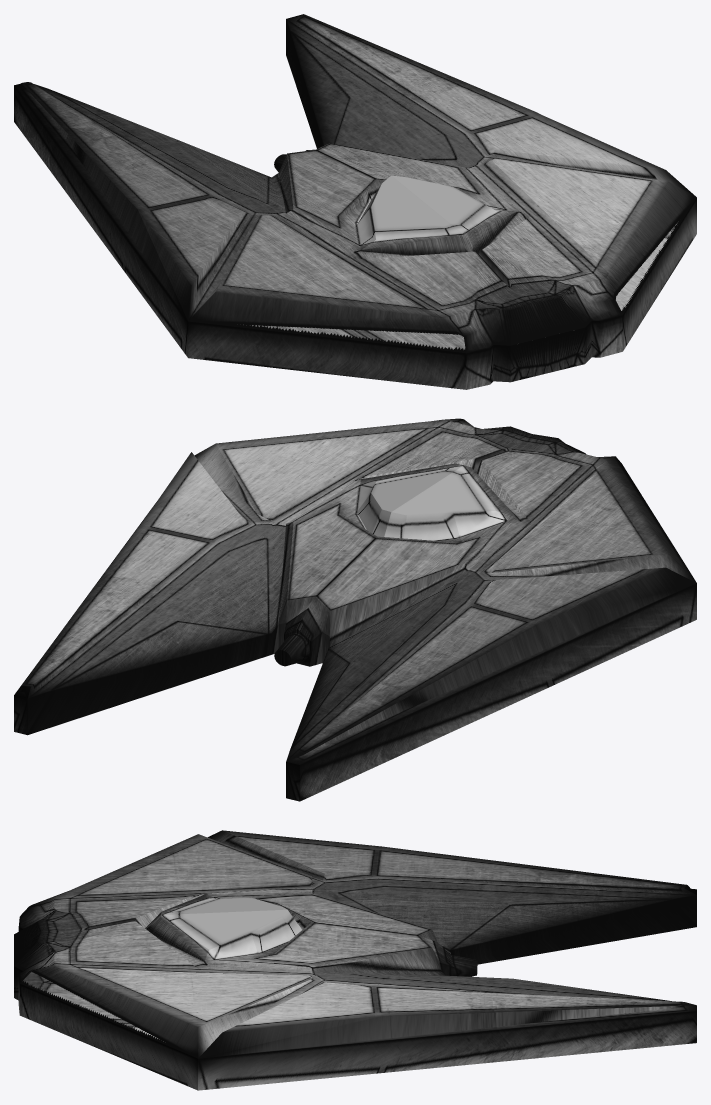
File: Enemy_Ship.fbx
3 renders of one model, top to bottom at view 1: azimuth 30°, elevation 25°; view 2: azimuth 150°, elevation 25°; view 3: azimuth 270°, elevation 25°, orthographic. The views are drawn at different scales.
Visible parts, largest first — view 1: Enemy_Ship; view 2: Enemy_Ship; view 3: Enemy_Ship.
Part boxes in pixels (x1,y1,x2,y2): Enemy_Ship: (14, 14, 696, 389); Enemy_Ship: (14, 418, 696, 801); Enemy_Ship: (14, 830, 696, 1090).
Size of the model in its own units: 734 by 115 by 977.
Materials: 1 (1 with a texture image).
